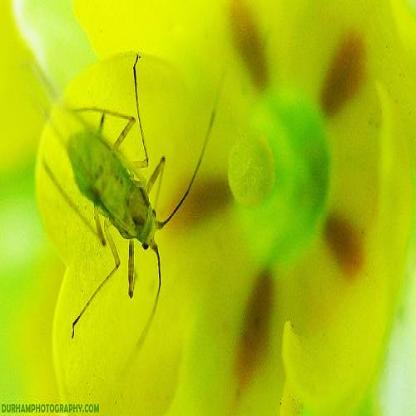aphid: (47, 57, 201, 344)
